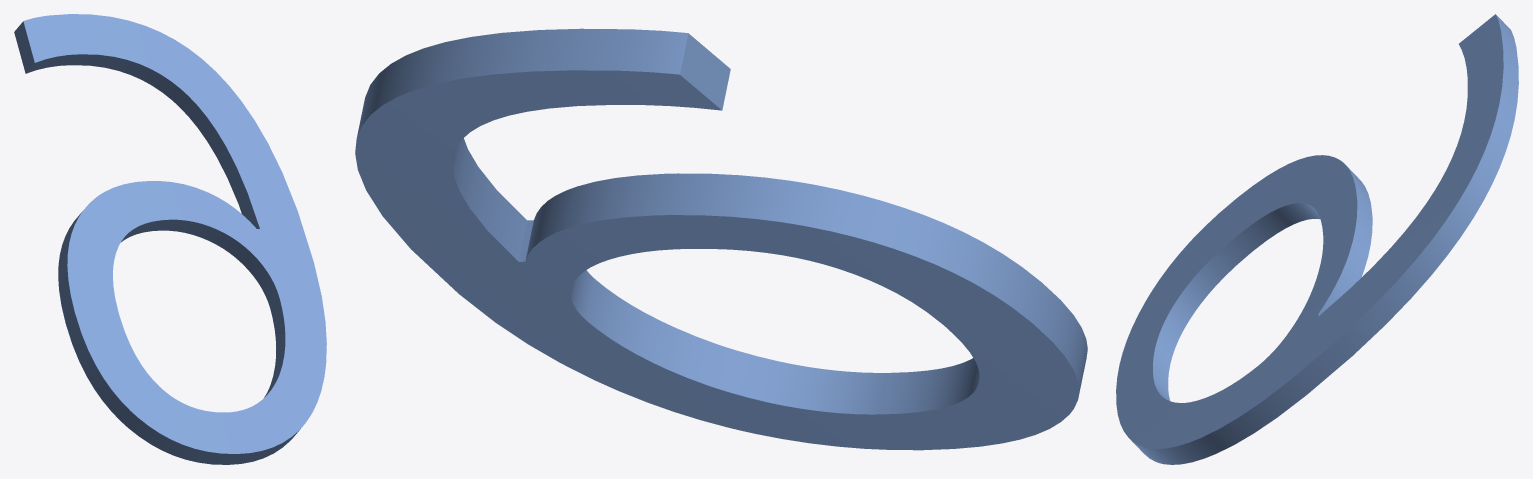
The model's file is New_Number_9.gltf.
3 views of the same model, side by side, from view 1: azimuth 30°, elevation 25°; view 2: azimuth 150°, elevation 25°; view 3: azimuth 270°, elevation 25° (orthographic). The views are drawn at different scales.
Visible parts, largest first — view 1: Part 414; view 2: Part 414; view 3: Part 414.
Boxes of the visible parts, left/top/right/bottom form: Part 414: left=14, top=14, right=326, bottom=464; Part 414: left=355, top=28, right=1087, bottom=450; Part 414: left=1116, top=14, right=1518, bottom=464.
Size of the model in its own units: 0.00368 by 0.00445 by 0.00419.
